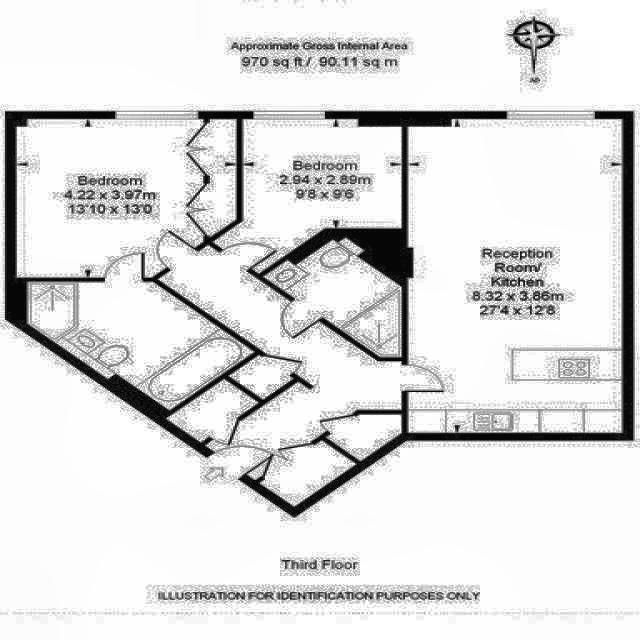room: (94, 231, 434, 534), (406, 119, 624, 433), (7, 222, 255, 440), (16, 118, 237, 278), (212, 119, 402, 274), (263, 211, 440, 369), (166, 370, 258, 452), (228, 347, 293, 408)
